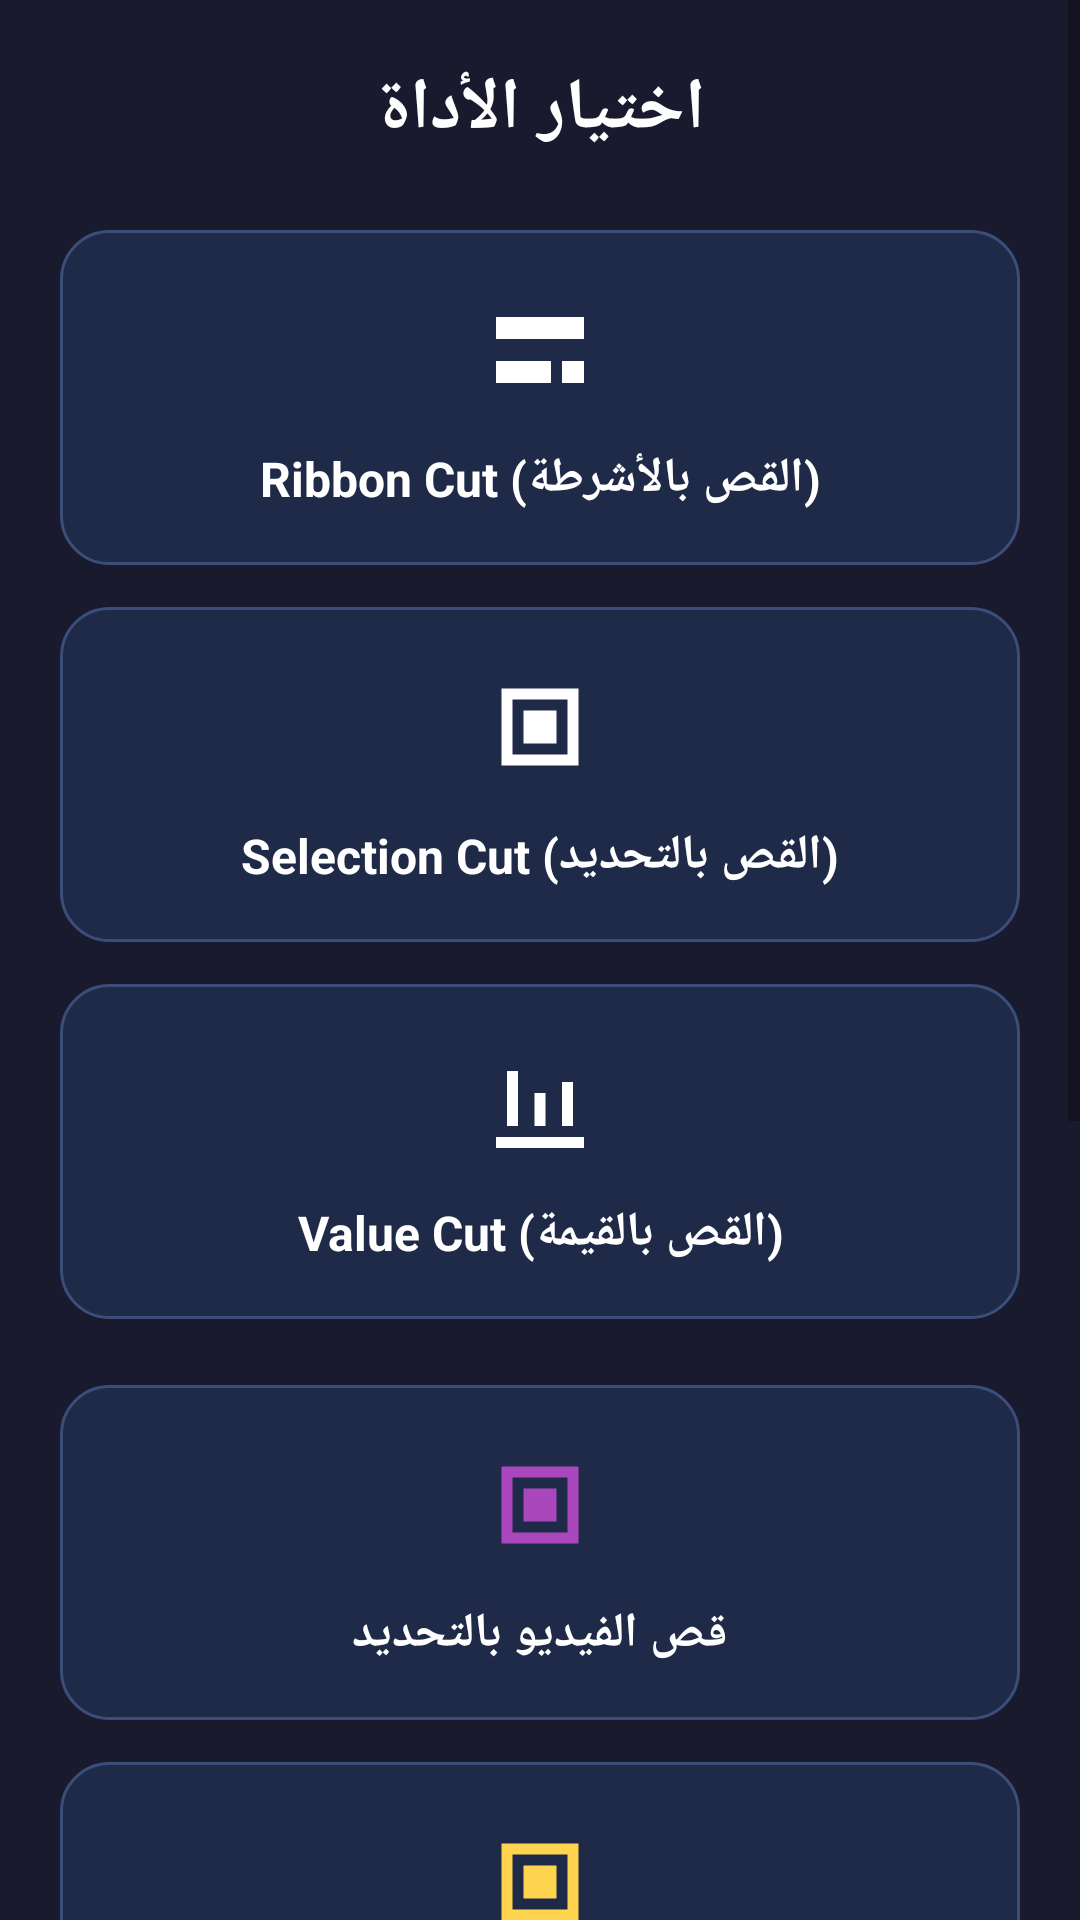

Locate icon controls on the screen. Image size 1080*1920, boxes as (x1, y1, x2, y2).
method ribbon: (496, 317, 584, 383)
method value: (496, 1071, 584, 1148)
